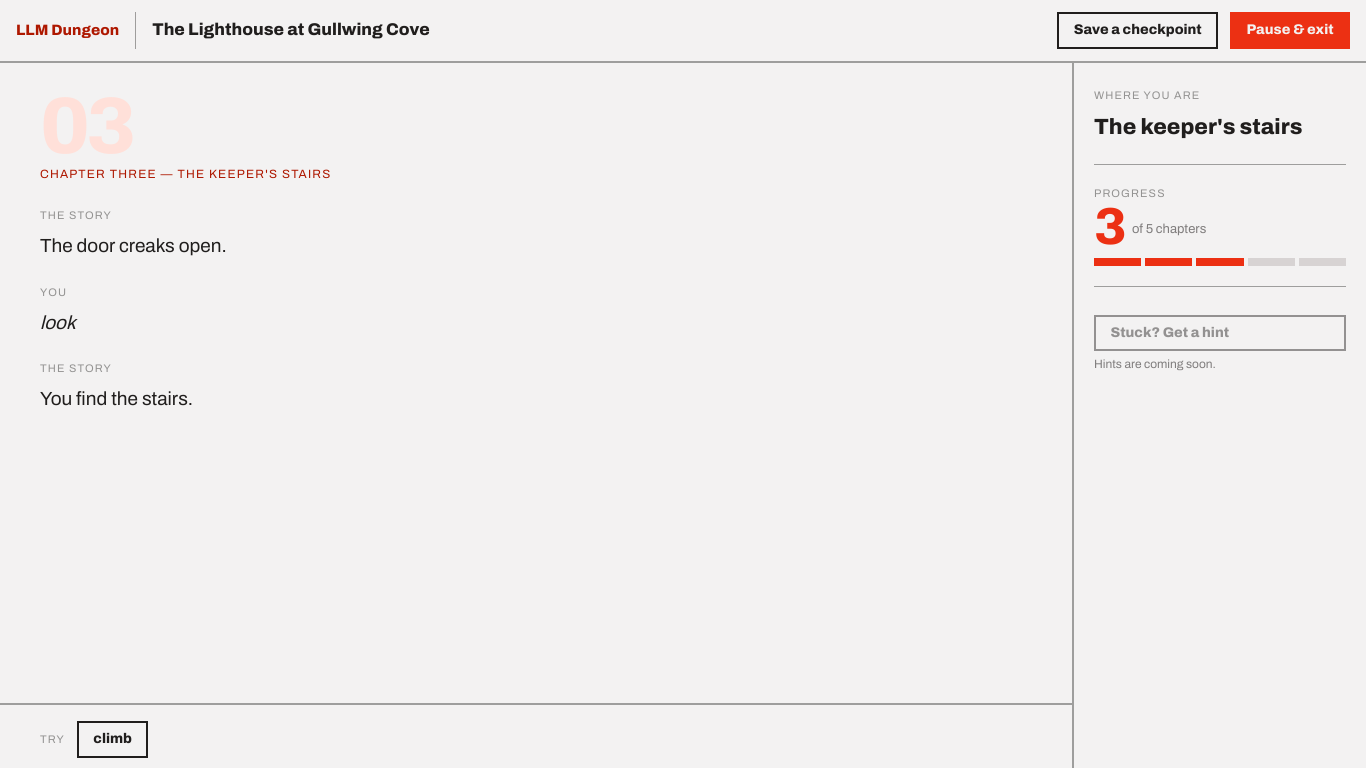
Test: Pause and exit lands the player on Home (#346) › still goes to Home when the exit checkpoint fails, carrying the notice there (FR-006a)
Expected: the text "You find the stairs." is shown, [40,388,193,409]
Click the button "Pause & exit": (1290, 30) [1230,12,1350,49]
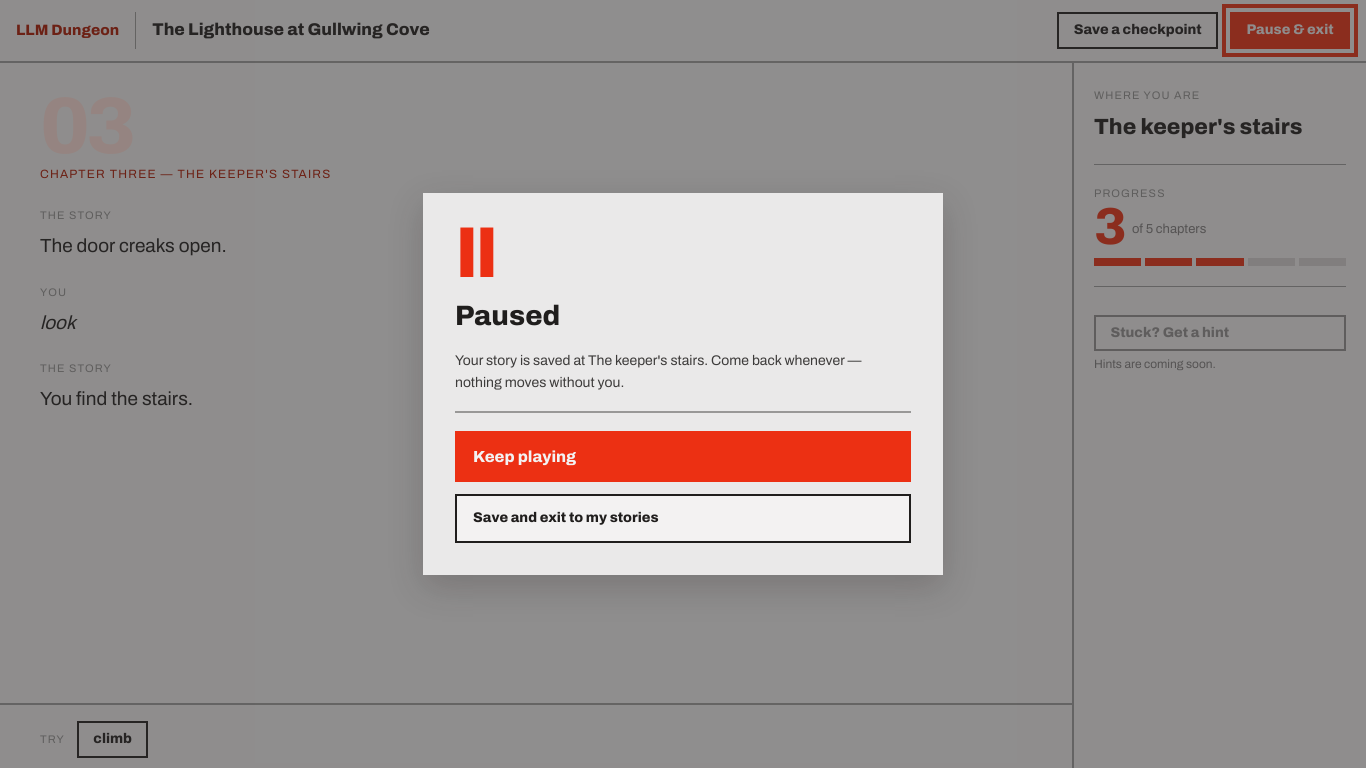
Click the button "Save and exit to my stories": (566, 518) [455,494,911,543]
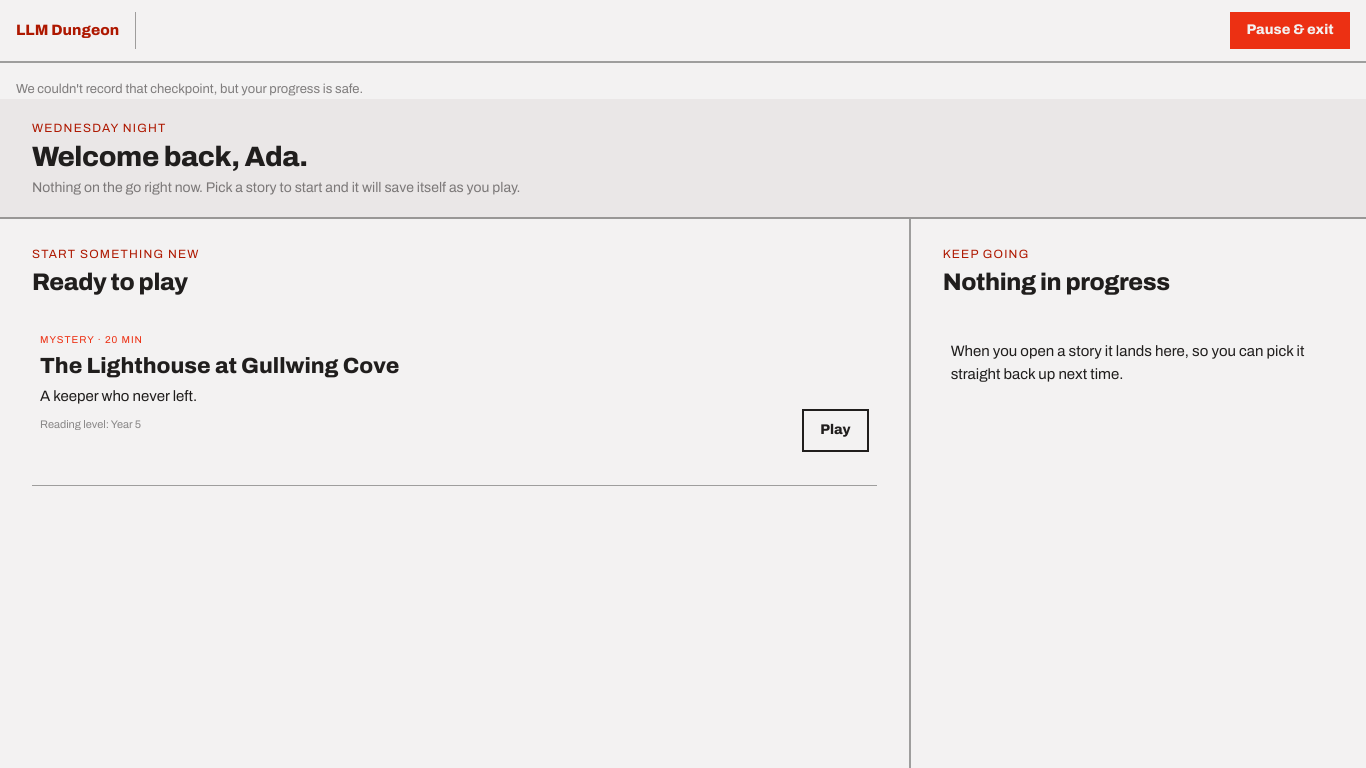
Now the text "We couldn't record that checkpoint, but your progress is safe." is shown, box [16,82,363,96]
Now the heading "Ready to play" is shown, box [32,269,188,295]
